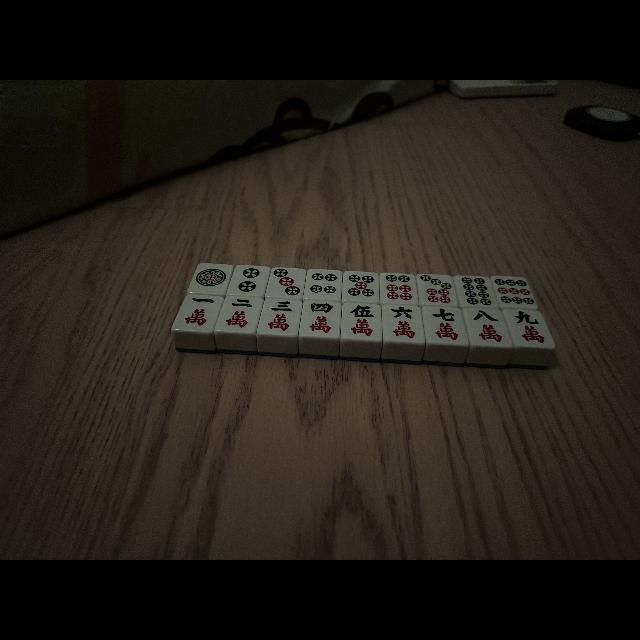c1: (178, 294, 218, 332)
c2: (221, 296, 259, 332)
c3: (262, 299, 300, 335)
c4: (302, 300, 340, 338)
c5: (342, 303, 382, 339)
c6: (382, 304, 422, 342)
c7: (424, 306, 466, 344)
c8: (467, 310, 507, 344)
c9: (509, 310, 551, 348)
d1: (192, 264, 230, 294)
d2: (231, 266, 267, 294)
d3: (268, 268, 304, 298)
d4: (306, 270, 340, 298)
d5: (344, 272, 378, 302)
d6: (381, 273, 417, 303)
d7: (418, 274, 456, 304)
d8: (458, 276, 492, 308)
d9: (494, 276, 534, 308)
